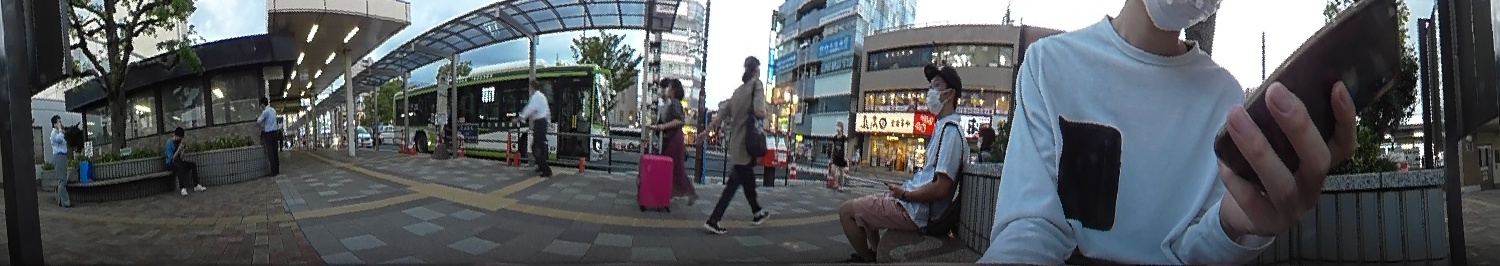difficult_person: (850, 146, 863, 172)
person: (834, 57, 973, 257), (703, 53, 772, 234), (656, 79, 696, 202), (517, 74, 555, 181), (159, 125, 210, 191), (45, 113, 78, 210), (253, 93, 282, 178), (828, 117, 850, 188)
